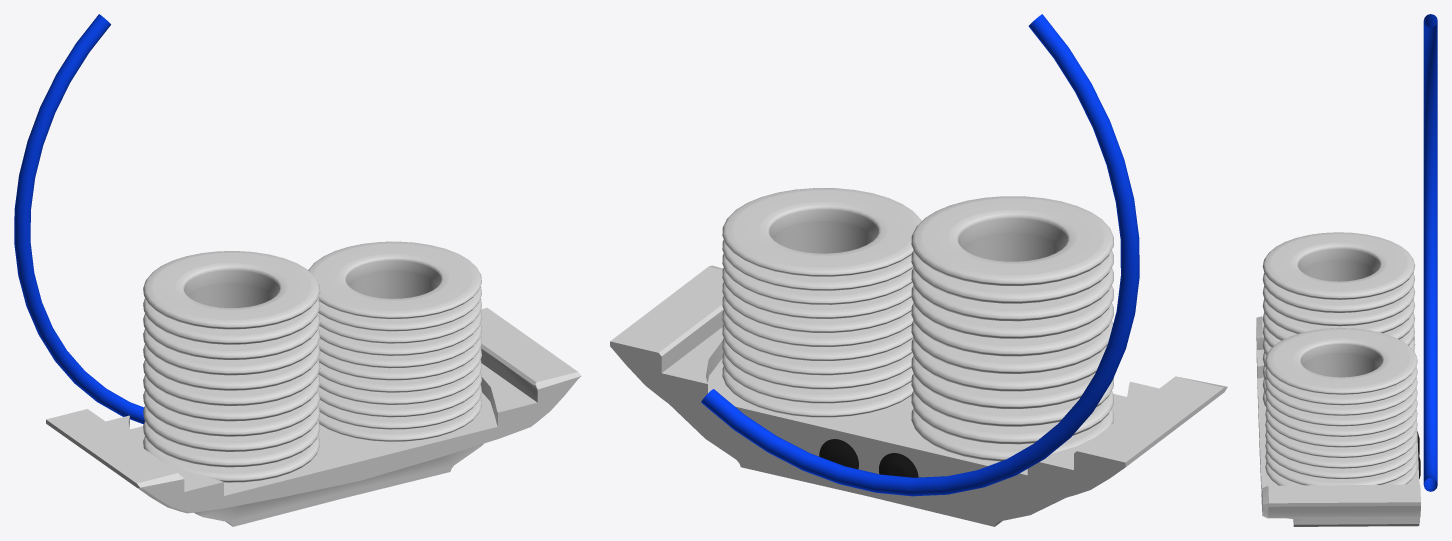
Rendered from module-fluidique-pres-transformed.glb.
3 views of the same model, side by side, from view 1: azimuth 30°, elevation 25°; view 2: azimuth 150°, elevation 25°; view 3: azimuth 270°, elevation 25° (orthographic). The views are drawn at different scales.
Visible parts, largest first — view 1: BASE, liquid-2; view 2: BASE, liquid-2, cercle-tuyaux1.001; view 3: BASE, liquid-2.
Part boxes in pixels (x1,y1,x2,y2): BASE: (46,241,581,526); liquid-2: (14,14,144,424); BASE: (610,188,1227,526); liquid-2: (701,14,1139,496); cercle-tuyaux1.001: (819,439,918,477); BASE: (1256,232,1420,526); liquid-2: (1423,14,1437,491).
Size of what is drawn, in the model's own units: 0.0386 by 0.0365 by 0.0151.
